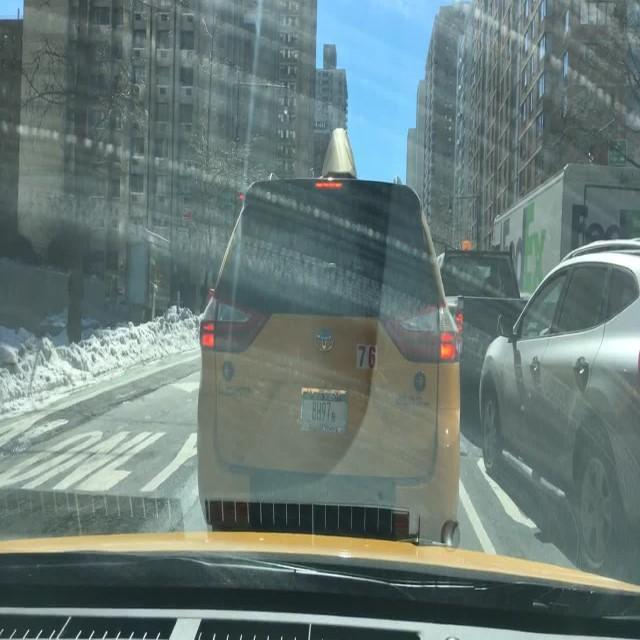normal: (146, 139, 523, 559)
